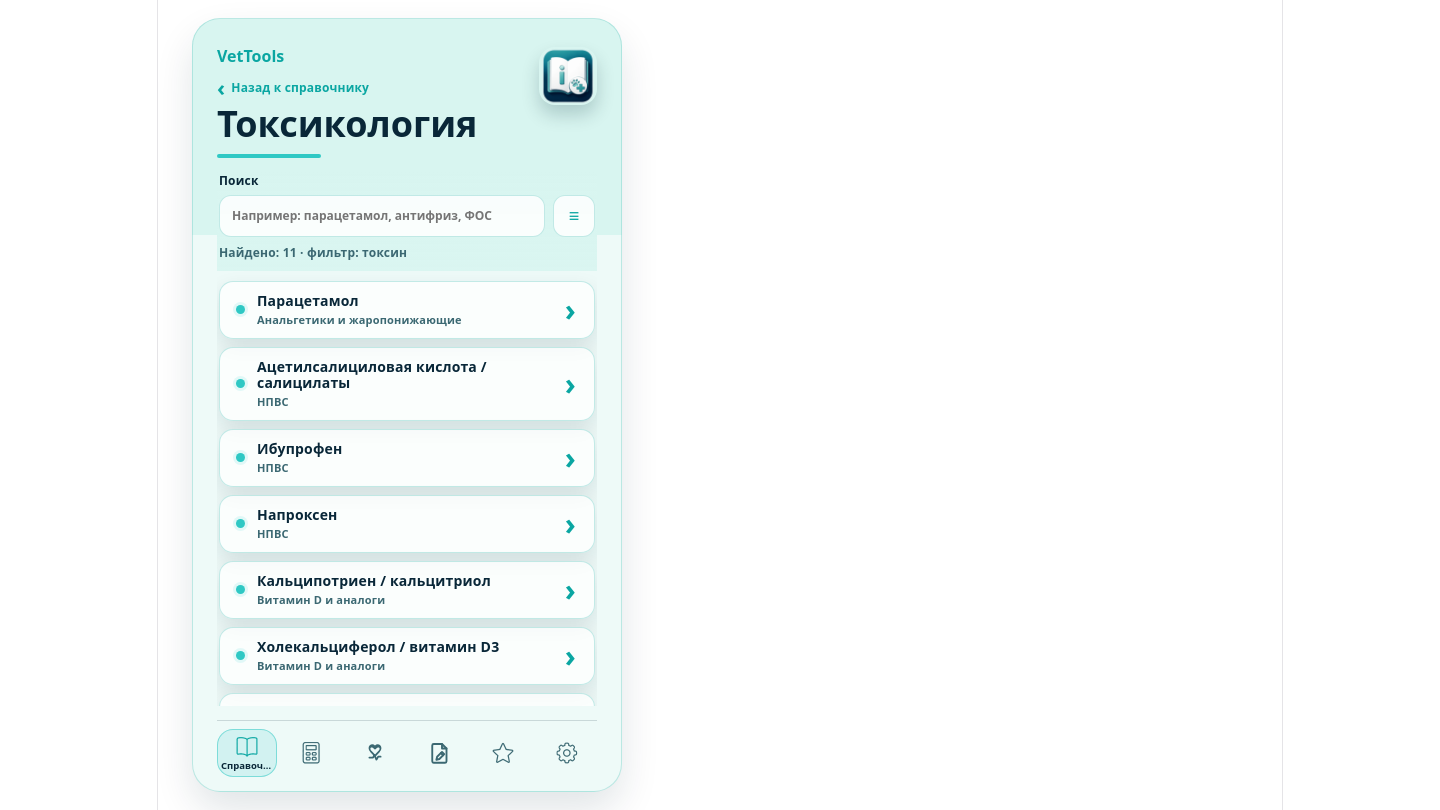
Test: ToxicologyReferencePage › switches filtering to laboratory changes
Click the button named "Фильтр" at point(574, 216), box [553, 195, 595, 237]
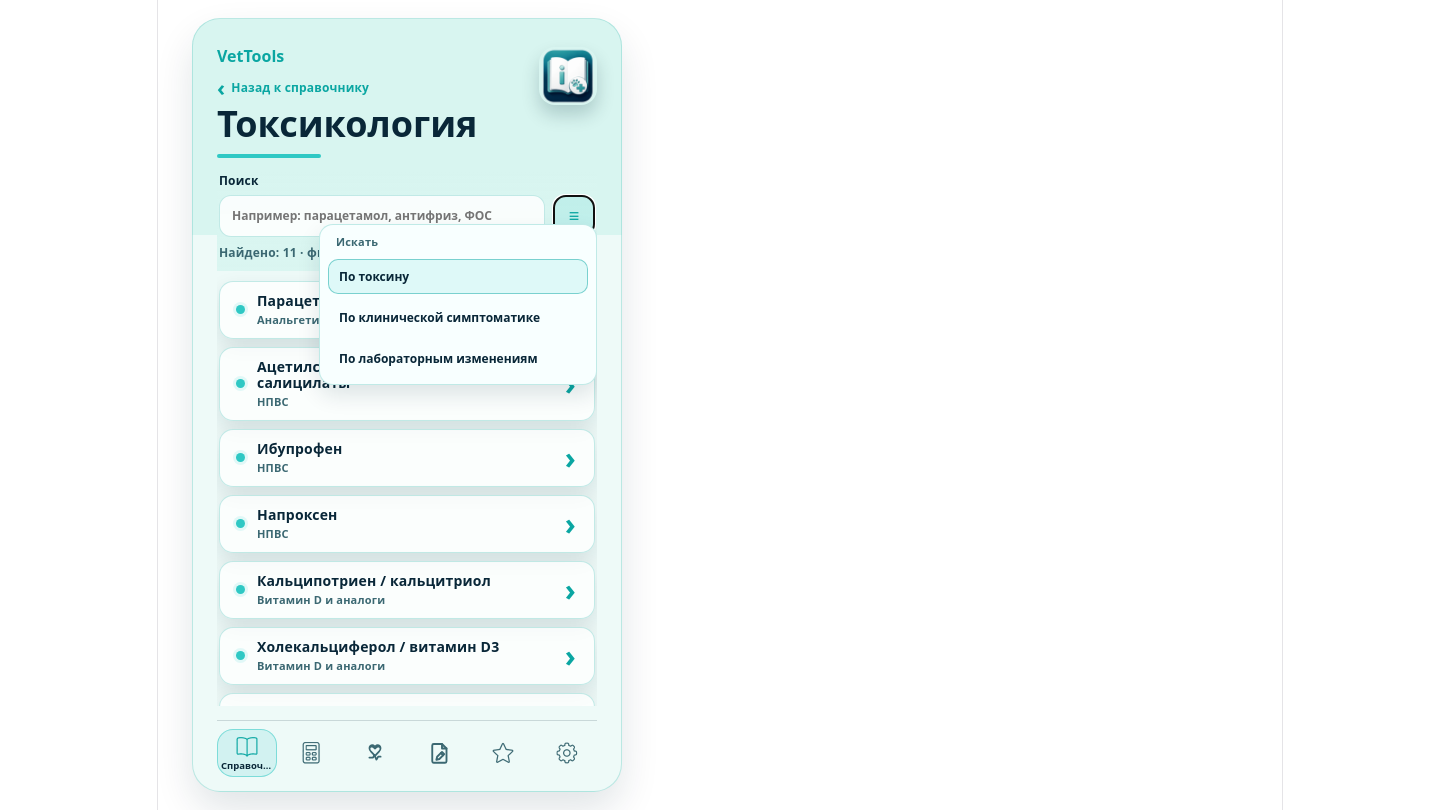
Click the menu item "По лабораторным изменениям" at point(458, 358), box [328, 341, 588, 376]
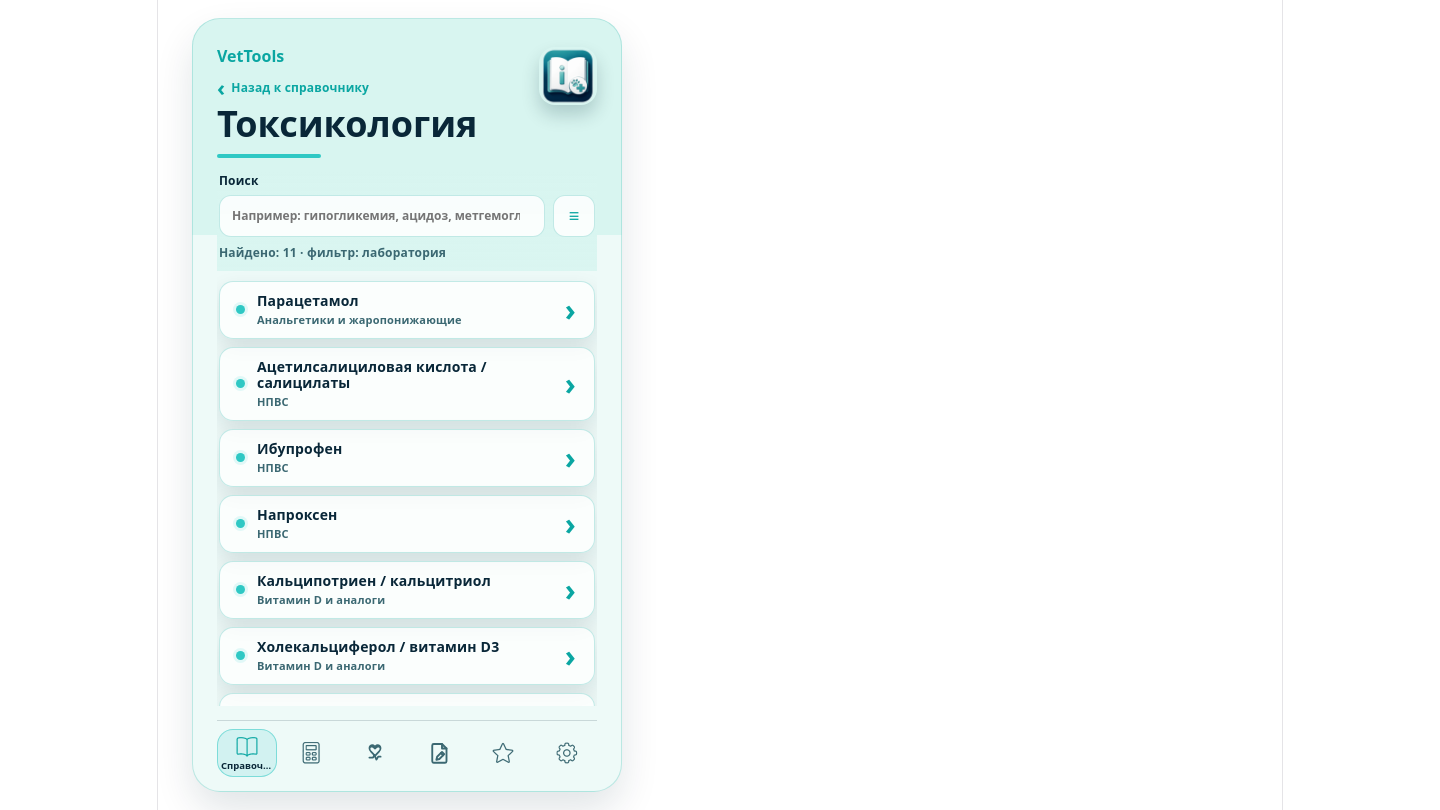
Type "нейтропения" into the search field named "Поиск по справочнику токсикологии" at point(382, 216), box [219, 195, 545, 237]
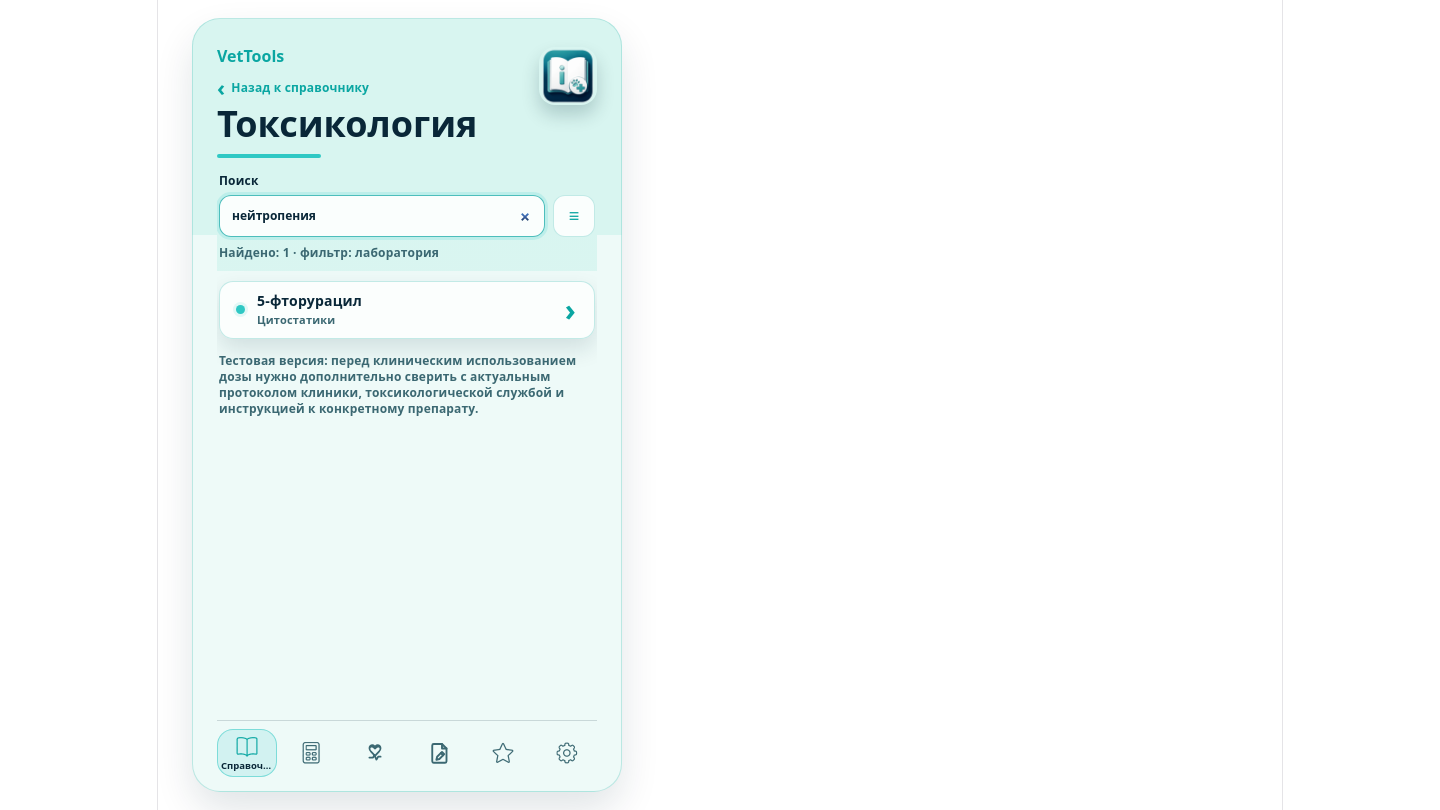
Expected: the text "5-фторурацил" is shown, [257, 291, 362, 310]
Expected: the text "Найдено: 1 · фильтр: лаборатория" is shown, [219, 244, 439, 261]
Expected: the link "Парацетамол" is gone
